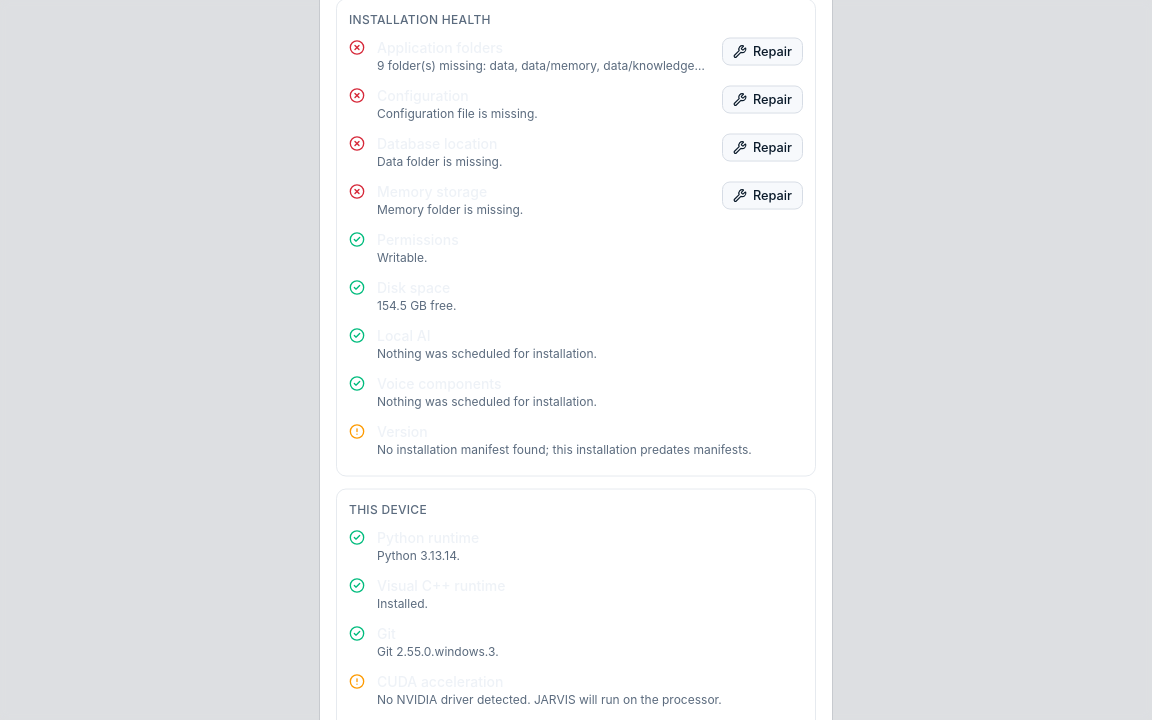
Test case: DiagnosticsDialog › repairs the clicked step and replaces the shown report with the fresh one returned
Click the button "Repair" in the row of "Configuration file is missing." at (762, 100), box [722, 86, 803, 114]
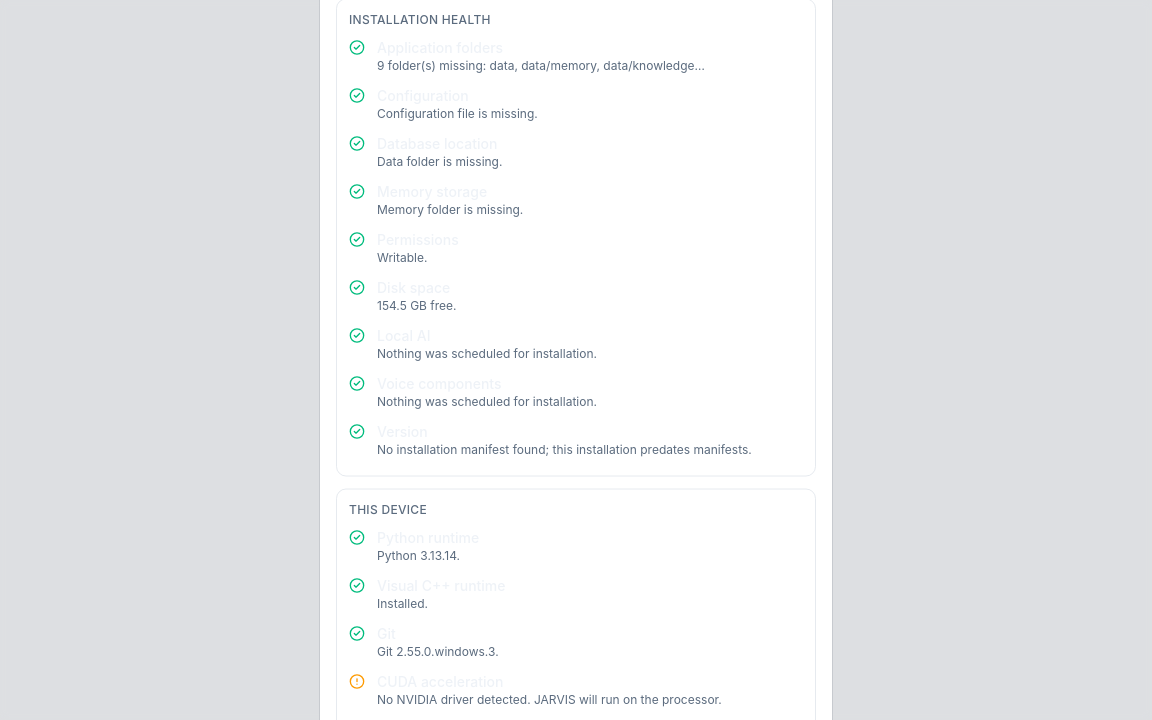
expect the button "Repair" is gone: met
